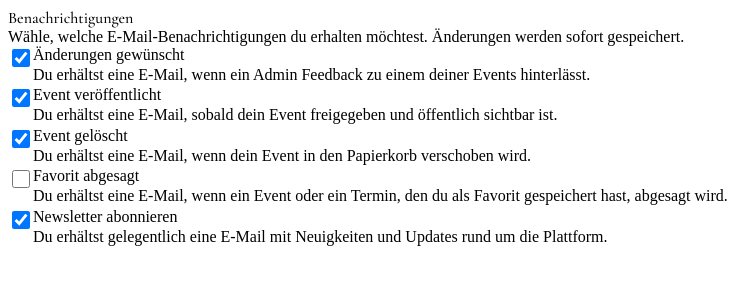
Scenario: NotificationPreferencesCard › shows a brief "Gespeichert." indicator after a successful toggle
Click the checkbox with test id "notification-pref-notifyOnPublished" at {"x": 21, "y": 98}, box [12, 89, 30, 107]
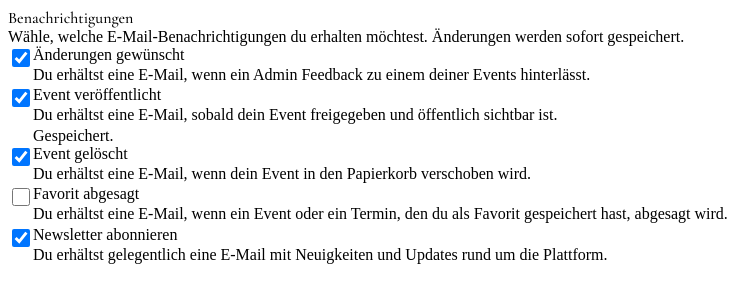
Check: the text "Gespeichert." is shown, box [33, 127, 113, 144]
